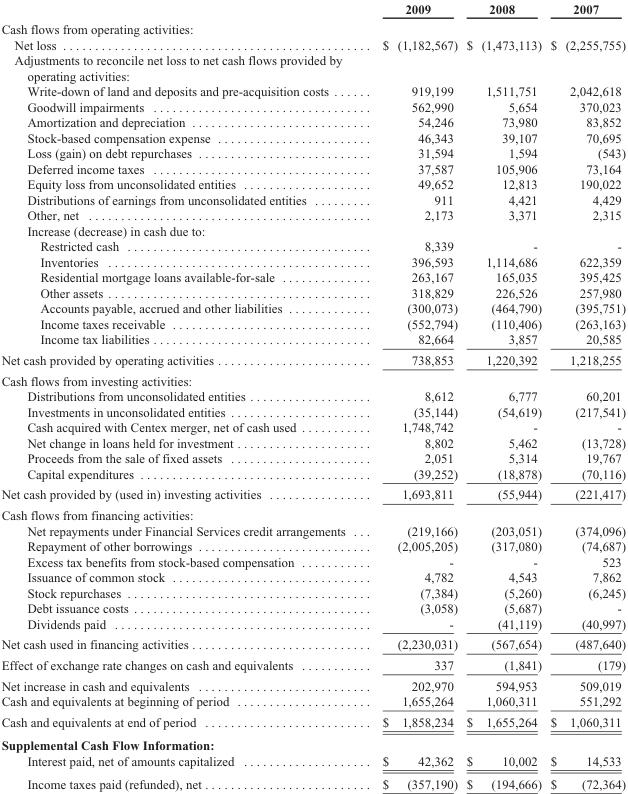table: (0, 1, 625, 790)
table column: (0, 1, 363, 790), (363, 1, 461, 790), (461, 1, 545, 790), (545, 1, 625, 790)
table column header: (0, 1, 625, 18)
table projected row header: (0, 52, 625, 83), (0, 733, 625, 752), (0, 18, 625, 36), (0, 370, 625, 388), (0, 504, 625, 522), (0, 222, 625, 238)
table row: (0, 52, 625, 83), (0, 711, 625, 733), (0, 349, 625, 370), (0, 483, 625, 504), (0, 633, 625, 654), (0, 654, 625, 675), (0, 733, 625, 752), (0, 752, 625, 771), (0, 771, 625, 790), (0, 18, 625, 36), (0, 331, 625, 349), (0, 370, 625, 388), (0, 465, 625, 483), (0, 504, 625, 522), (0, 615, 625, 633), (0, 675, 625, 693), (0, 693, 625, 711), (0, 1, 625, 18), (0, 36, 625, 52), (0, 98, 625, 114), (0, 129, 625, 145), (0, 160, 625, 176), (0, 191, 625, 207), (0, 222, 625, 238), (0, 253, 625, 269), (0, 284, 625, 300), (0, 315, 625, 331), (0, 403, 625, 419), (0, 434, 625, 450), (0, 522, 625, 538), (0, 553, 625, 569), (0, 584, 625, 600), (0, 83, 625, 98), (0, 114, 625, 129), (0, 145, 625, 160), (0, 176, 625, 191), (0, 207, 625, 222), (0, 238, 625, 253), (0, 269, 625, 284), (0, 300, 625, 315), (0, 388, 625, 403), (0, 419, 625, 434), (0, 450, 625, 465), (0, 538, 625, 553), (0, 569, 625, 584), (0, 600, 625, 615)
